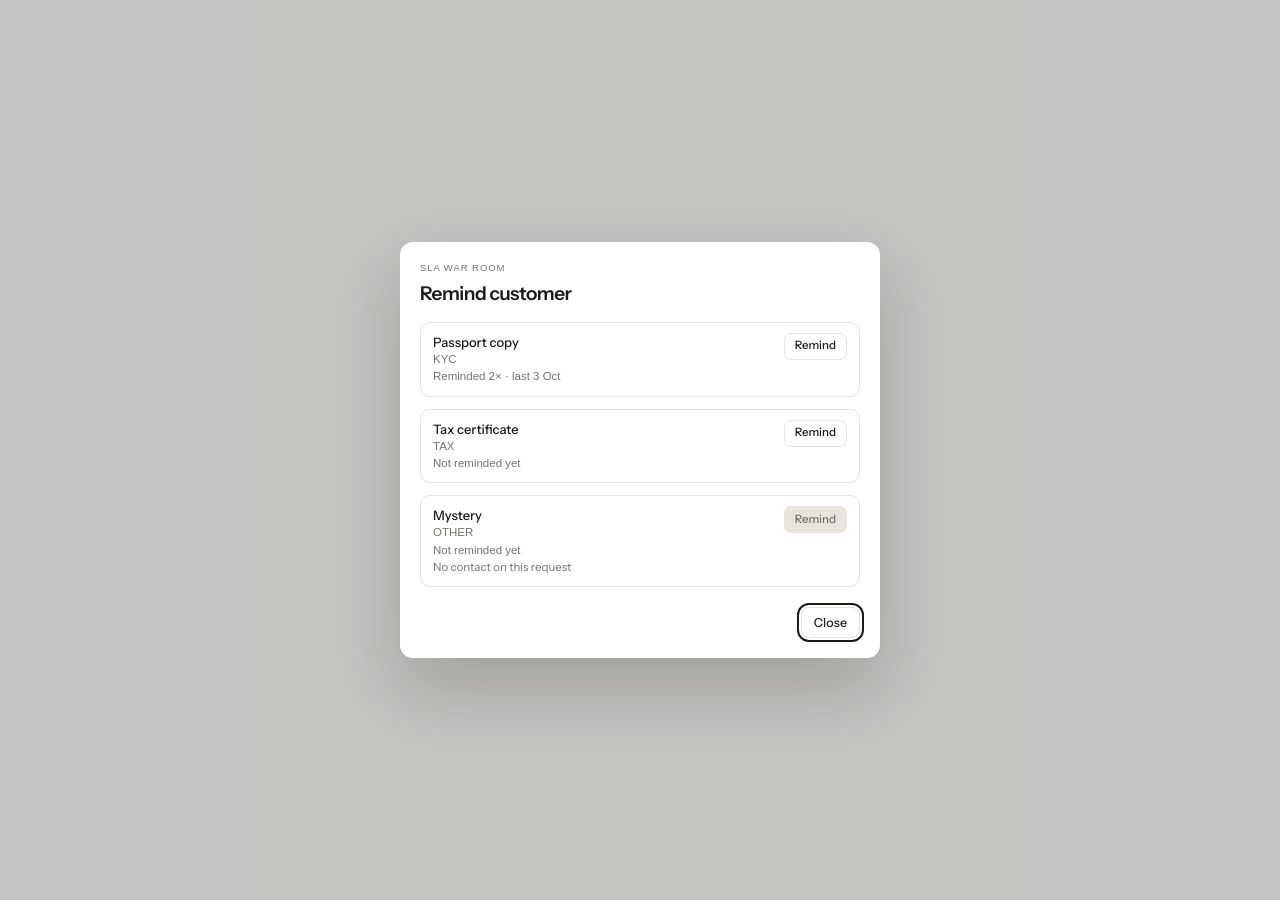
it: RemindCustomerDialog › a 422 shows the server's detail
The width and height of the screenshot is (1280, 900).
Expected: the text "Tax certificate" is shown, [433,420,521,438]
Click the button "Remind" in the row of "Tax certificate": (815, 433) [784,420,847,447]
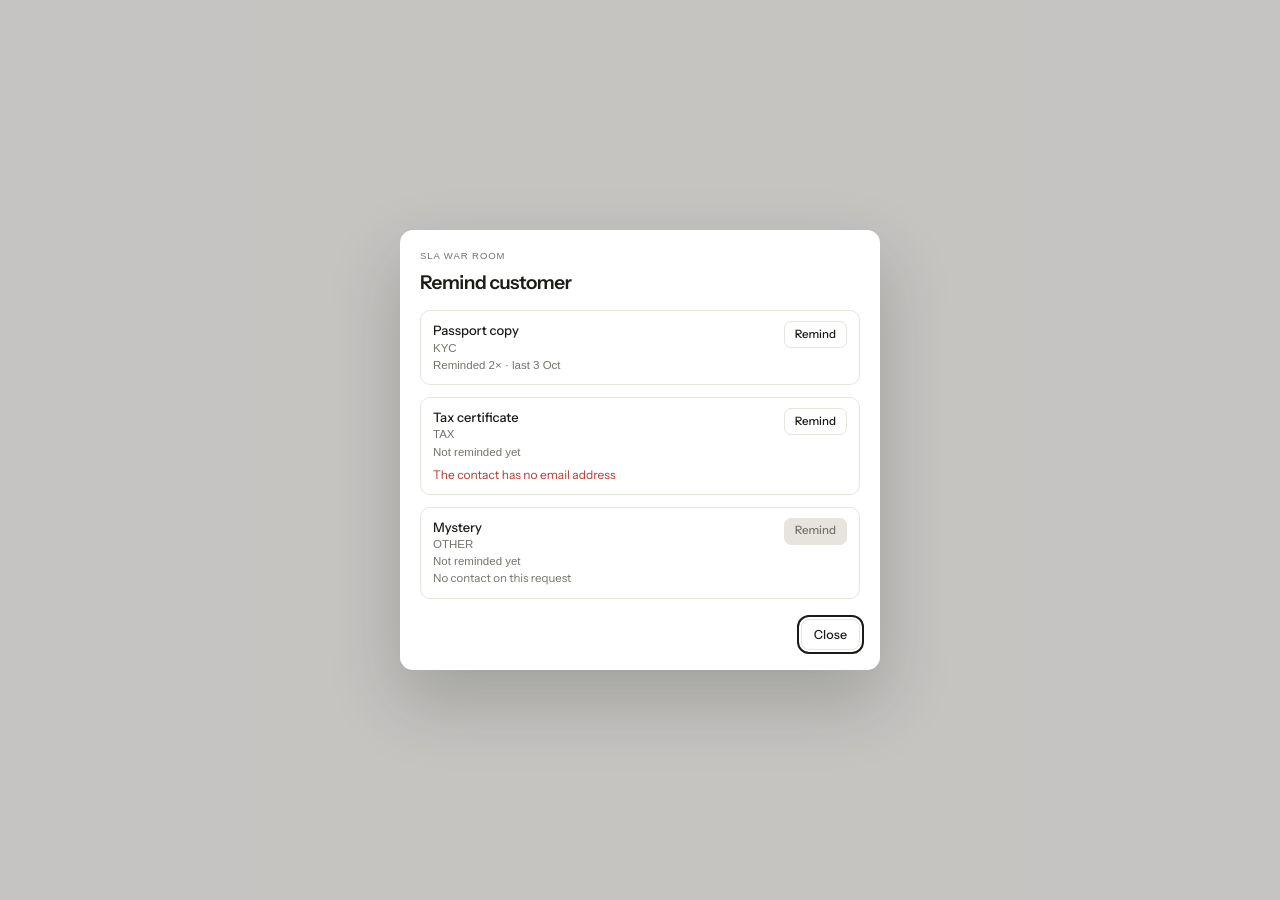
Result: the text "The contact has no email address" is shown at [433,467,616,482]
